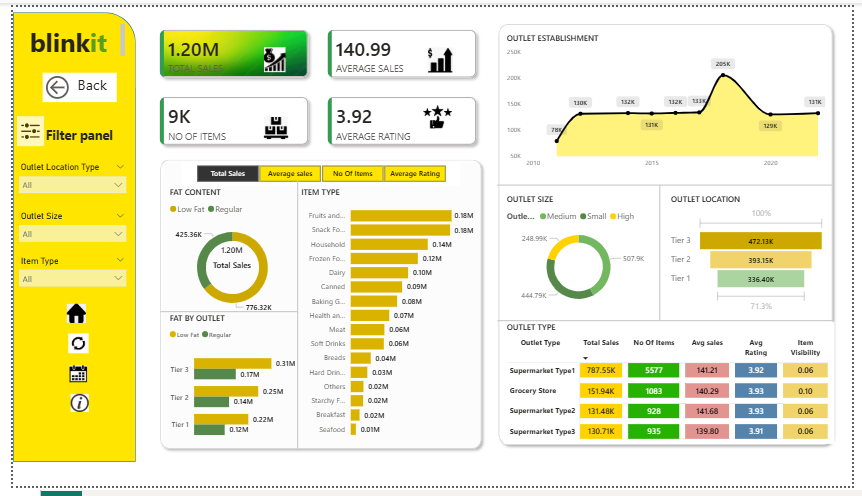

Layout of this report page (visuals, bound fields, positions):
{"tool":"powerbi","page":{"name":"Page 1","canvas":[1400,800],"ordinal":0},"visuals":[{"type":"shape","box":[0,8.3,205,750],"z":0},{"type":"textbox","box":[0,23.3,191.7,65],"z":1000},{"type":"actionButton","box":[49.5,109.7,123.8,49.5],"z":2000},{"type":"textbox","box":[102.6,107.9,88.4,49.5],"z":3000},{"type":"image","box":[0,181.7,58.3,50],"z":4000},{"type":"textbox","box":[50,195,143.3,50],"z":5000},{"type":"image","box":[82.8,495.1,46.2,31.8],"z":6000},{"type":"image","box":[87.6,544.4,41.4,33.4],"z":7000},{"type":"slicer","fields":{"Values":["BlinkIT Grocery Data.Outlet Location Type"]},"box":[0,255,198.3,70],"z":8000},{"type":"slicer","fields":{"Values":["BlinkIT Grocery Data.Outlet Size"]},"box":[0,336.7,198.3,73.3],"z":9000},{"type":"slicer","fields":{"Values":["BlinkIT Grocery Data.Item Type"]},"box":[0,410,198.3,76.7],"z":10000},{"type":"image","box":[14.3,597,189.4,28.7],"z":11000},{"type":"image","box":[0,644.7,222.9,30.2],"z":12000},{"type":"cardVisual","fields":{"Data":["BlinkIT Grocery Data.Total Sales","BlinkIT Grocery Data.Average sales","BlinkIT Grocery Data.No Of Items","BlinkIT Grocery Data.Average Rating"]},"box":[215,8.3,586.7,250],"z":13000},{"type":"image","box":[685,66.7,56.7,43.3],"z":14000},{"type":"image","box":[413.3,181.7,50,40],"z":15000},{"type":"image","box":[410,66.7,53.3,41.7],"z":16000},{"type":"image","box":[685,160,48.3,48.3],"z":17000},{"type":"shape","box":[236.7,245,553.3,500],"z":18000},{"type":"slicer","fields":{"Values":["Matrix 2.Matrix"]},"box":[281.7,258.3,465,40],"z":19000},{"type":"donutChart","title":"FAT CONTENT","fields":{"Y":["BlinkIT Grocery Data.Total Sales"],"Category":["BlinkIT Grocery Data.Item Fat Content"]},"box":[256.7,298.3,220,225],"z":20000},{"type":"card","fields":{"Values":["BlinkIT Grocery Data.Total Sales"]},"box":[313.3,366.7,105,101.7],"z":21000},{"type":"clusteredBarChart","title":"FAT BY OUTLET","fields":{"Y":["BlinkIT Grocery Data.Total Sales"],"Category":["BlinkIT Grocery Data.Outlet Location Type"],"Series":["BlinkIT Grocery Data.Item Fat Content"]},"box":[256.7,510,220,230],"z":22000},{"type":"shape","box":[246.7,490,230,36.7],"z":23000},{"type":"shape","box":[390,290,171.7,450],"z":24000},{"type":"barChart","title":"ITEM TYPE","fields":{"Y":["BlinkIT Grocery Data.Total Sales"],"Category":["BlinkIT Grocery Data.Item Type"]},"box":[476.7,298.3,298.3,430],"z":25000},{"type":"shape","box":[801.7,20,575,720],"z":26000},{"type":"lineChart","title":"OUTLET ESTABLISHMENT","fields":{"Category":["BlinkIT Grocery Data.Outlet Establishment Year"],"Y":["BlinkIT Grocery Data.Total Sales"]},"box":[818.3,41.7,541.7,235],"z":27000},{"type":"donutChart","title":"OUTLET SIZE","fields":{"Y":["BlinkIT Grocery Data.Total Sales"],"Category":["BlinkIT Grocery Data.Outlet Size"]},"box":[818.3,311.7,250,198.3],"z":28000},{"type":"funnel","title":"OUTLET LOCATION","fields":{"Y":["Sum(BlinkIT Grocery Data.Sales)"],"Category":["BlinkIT Grocery Data.Outlet Location Type"]},"box":[1093.3,311.7,266.7,203.3],"z":29000},{"type":"shape","box":[1068.3,296.7,21.7,226.7],"z":30000},{"type":"shape","box":[808.3,505,560,35],"z":31000},{"type":"shape","box":[808.3,283.3,560,28.3],"z":32000},{"type":"pivotTable","title":"OUTLET TYPE","fields":{"Rows":["BlinkIT Grocery Data.Outlet Type"],"Values":["BlinkIT Grocery Data.Total Sales","BlinkIT Grocery Data.No Of Items","BlinkIT Grocery Data.Average sales","BlinkIT Grocery Data.Average Rating","Avg(BlinkIT Grocery Data.Item Visibility)"]},"box":[818.3,525,551.7,203.3],"z":33000}]}

Visuals, with their boxes in screenshot pixels (x1, y1, x2, y2), scaled from the page's 1400x800 canvas onto the 862x496 screenshot:
shape: <region>0, 5, 126, 470</region>
textbox: <region>0, 14, 118, 55</region>
actionButton: <region>30, 68, 107, 99</region>
textbox: <region>63, 67, 118, 98</region>
image: <region>0, 113, 36, 144</region>
textbox: <region>31, 121, 119, 152</region>
image: <region>51, 307, 79, 327</region>
image: <region>54, 338, 79, 358</region>
slicer - BlinkIT Grocery Data.Outlet Location Type: <region>0, 158, 122, 202</region>
slicer - BlinkIT Grocery Data.Outlet Size: <region>0, 209, 122, 254</region>
slicer - BlinkIT Grocery Data.Item Type: <region>0, 254, 122, 302</region>
image: <region>9, 370, 125, 388</region>
image: <region>0, 400, 137, 418</region>
cardVisual - BlinkIT Grocery Data.Total Sales x BlinkIT Grocery Data.Average sales: <region>132, 5, 494, 160</region>
image: <region>422, 41, 457, 68</region>
image: <region>254, 113, 285, 137</region>
image: <region>252, 41, 285, 67</region>
image: <region>422, 99, 452, 129</region>
shape: <region>146, 152, 486, 462</region>
slicer - Matrix 2.Matrix: <region>173, 160, 460, 185</region>
"FAT CONTENT" donutChart: <region>158, 185, 294, 324</region>
card - BlinkIT Grocery Data.Total Sales: <region>193, 227, 258, 290</region>
"FAT BY OUTLET" clusteredBarChart: <region>158, 316, 294, 459</region>
shape: <region>152, 304, 294, 327</region>
shape: <region>240, 180, 346, 459</region>
"ITEM TYPE" barChart: <region>294, 185, 477, 452</region>
shape: <region>494, 12, 848, 459</region>
"OUTLET ESTABLISHMENT" lineChart: <region>504, 26, 837, 172</region>
"OUTLET SIZE" donutChart: <region>504, 193, 658, 316</region>
"OUTLET LOCATION" funnel: <region>673, 193, 837, 319</region>
shape: <region>658, 184, 671, 325</region>
shape: <region>498, 313, 842, 335</region>
shape: <region>498, 176, 842, 193</region>
"OUTLET TYPE" pivotTable: <region>504, 326, 844, 452</region>
